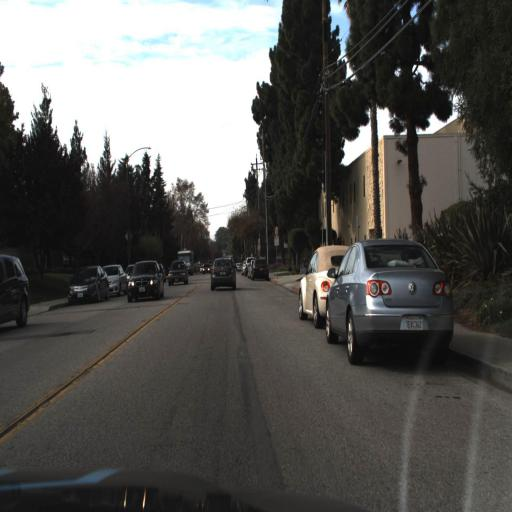car: (326, 237, 454, 365), (297, 242, 352, 330), (296, 242, 335, 336), (62, 262, 112, 311), (0, 252, 29, 332), (120, 254, 166, 304), (205, 254, 244, 296), (126, 258, 163, 300), (67, 273, 105, 305), (208, 258, 238, 292), (165, 256, 192, 291), (166, 257, 190, 289), (250, 252, 272, 280), (106, 263, 124, 297), (200, 260, 212, 279)
truck: (176, 245, 194, 265)
